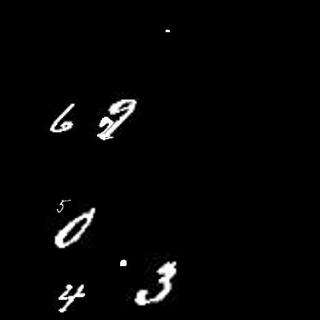dot: (115, 255, 130, 270), (162, 25, 172, 36)
five: (52, 191, 71, 216)
four: (56, 280, 88, 314)
six: (48, 100, 79, 135)
three: (136, 261, 179, 306)
zero: (52, 212, 98, 251)
